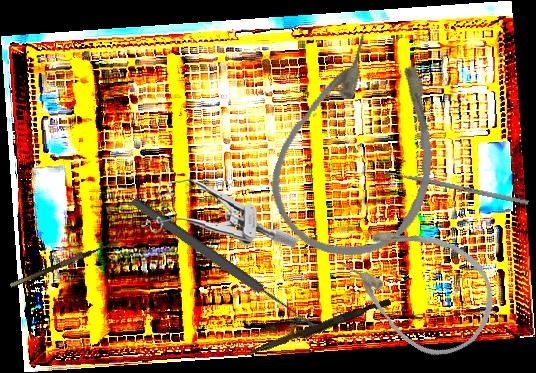Cannula: (254, 20, 469, 277), (325, 198, 513, 373)
Hook Surgical: (6, 229, 130, 288)
Pusher: (243, 294, 392, 363), (375, 167, 529, 206)
Speculum: (138, 175, 302, 249)
Surgical Spoon: (129, 195, 320, 334)
